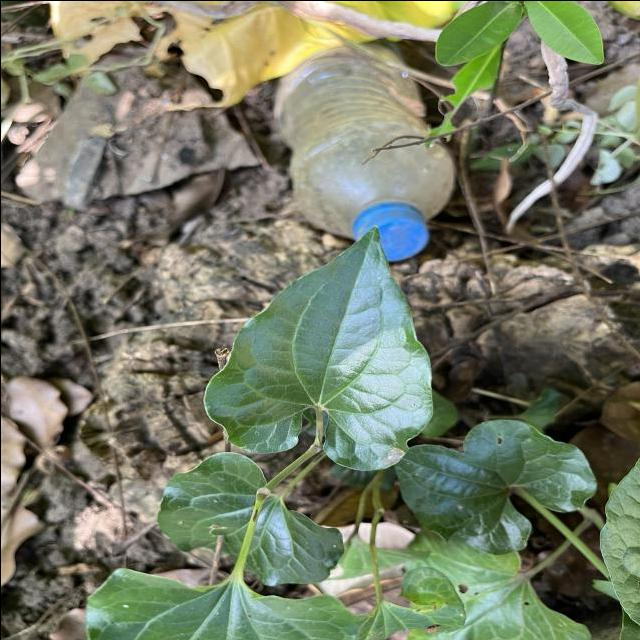Piper longum: (200, 222, 436, 472)
